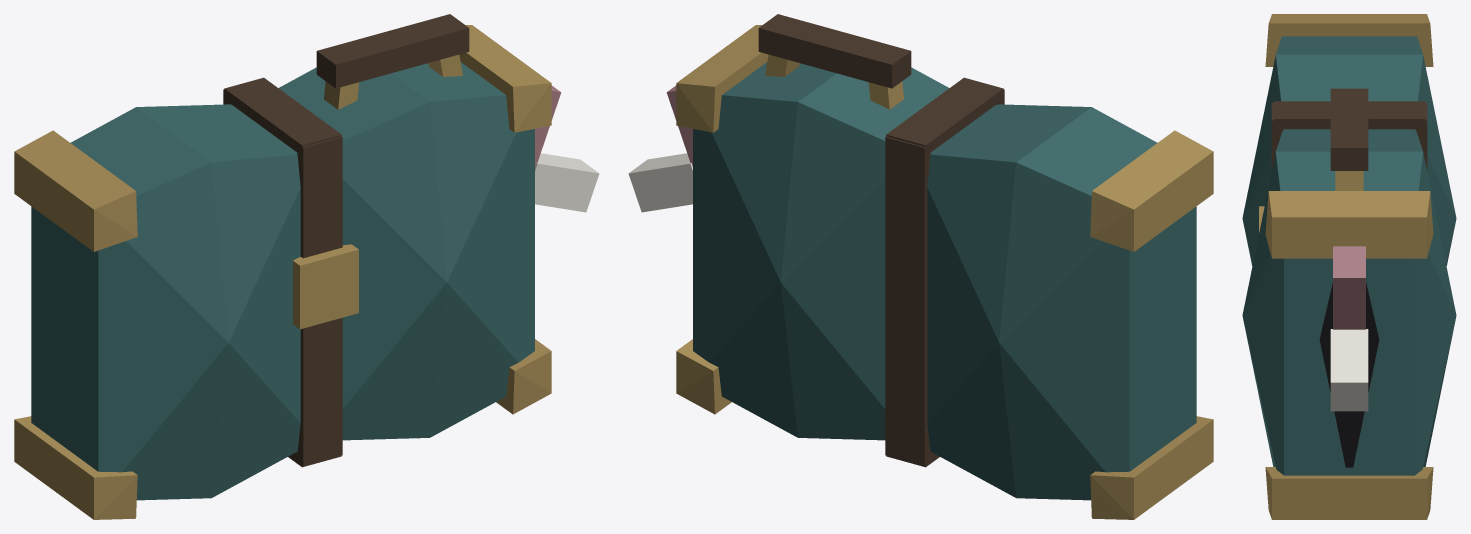
The model's file is suitcase.glb.
3 renders of one model, left to right at view 1: azimuth 30°, elevation 25°; view 2: azimuth 150°, elevation 25°; view 3: azimuth 270°, elevation 25°, orthographic. The views are drawn at different scales.
Parts seen in each view (by area): view 1: Prop; view 2: Prop; view 3: Prop.
Boxes of the visible parts, x1,y1,x2,y2 form: Prop: [14, 14, 599, 519]; Prop: [628, 14, 1213, 519]; Prop: [1242, 14, 1456, 519].
Bounding box in the file's own units: 0.62 × 0.42 × 0.22.
